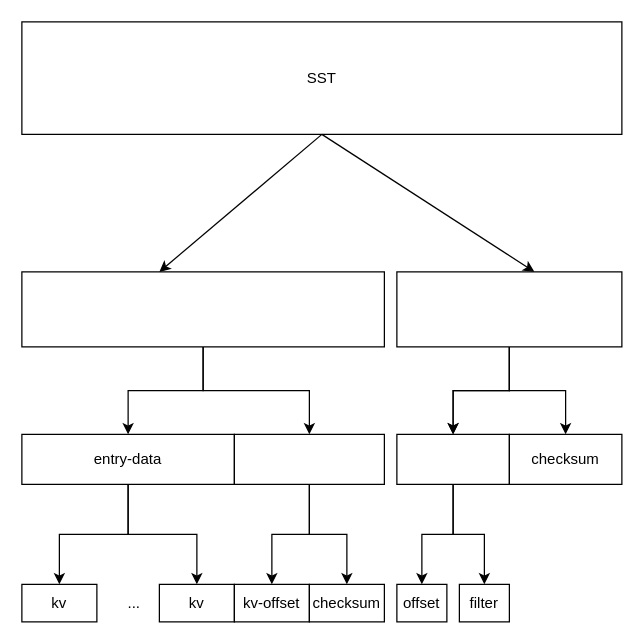
This 644x644 diagram has some shape labels left out. The centre of each missing label's shape, as x and y in pixels:
block-data: (202,309)
block-index: (509,309)
entry-index: (308,458)
index: (452,458)
